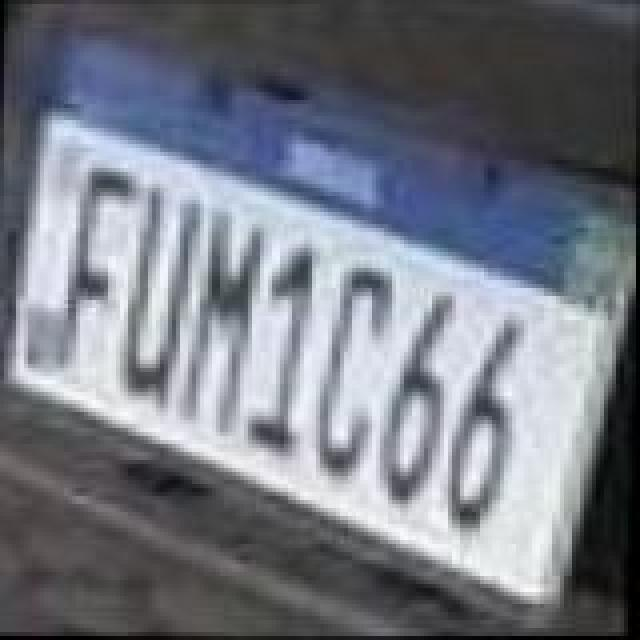1: (244, 244, 324, 456)
6: (440, 316, 540, 536), (372, 292, 464, 508)
C: (308, 262, 404, 478)
F: (46, 166, 146, 370)
M: (170, 208, 270, 432)
U: (116, 184, 212, 420)
